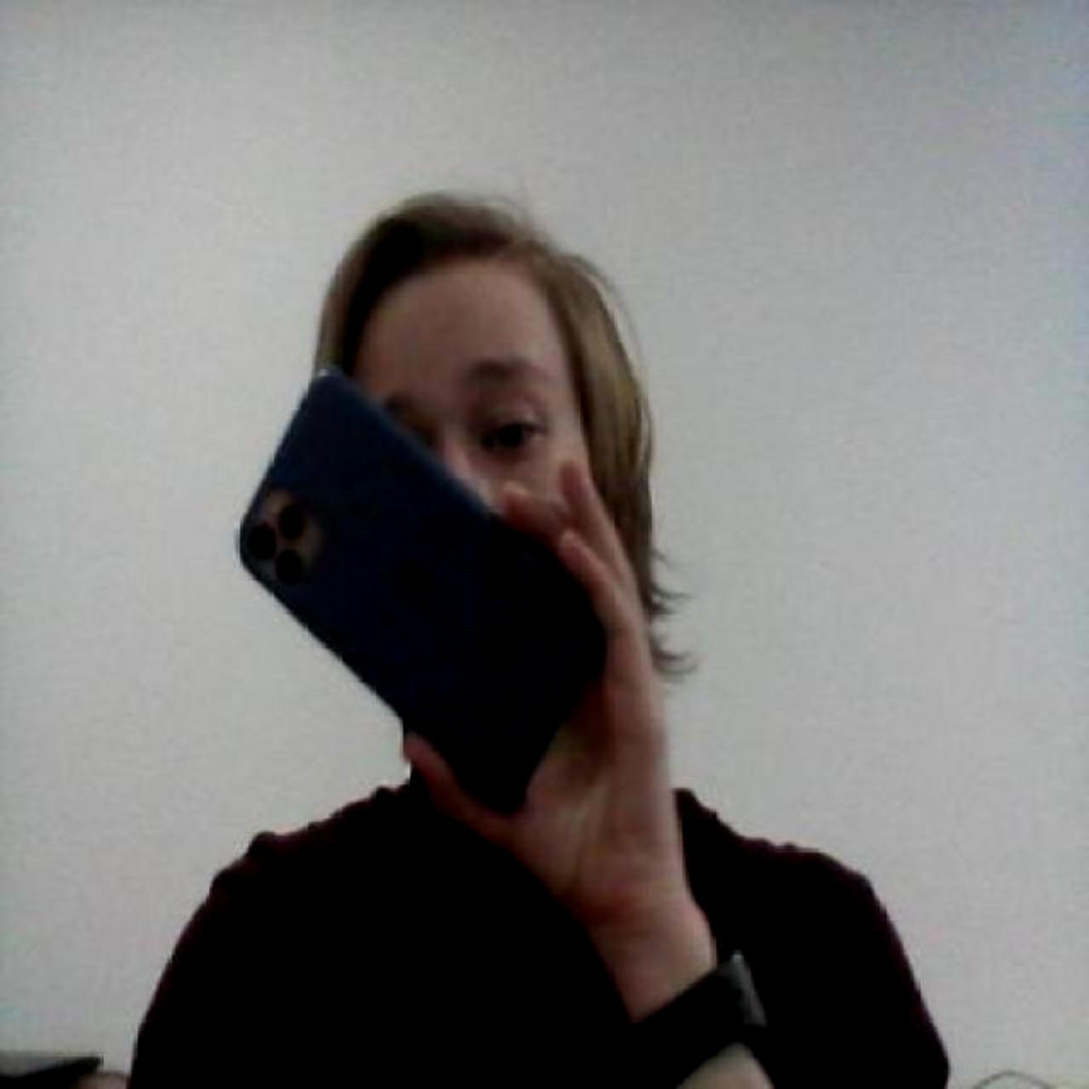phone: (214, 361, 633, 847)
